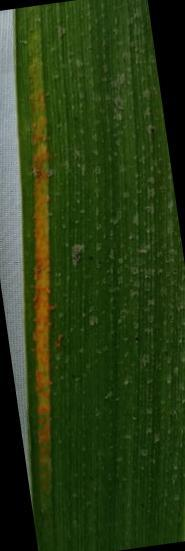Wheat: (29, 51, 59, 513)
